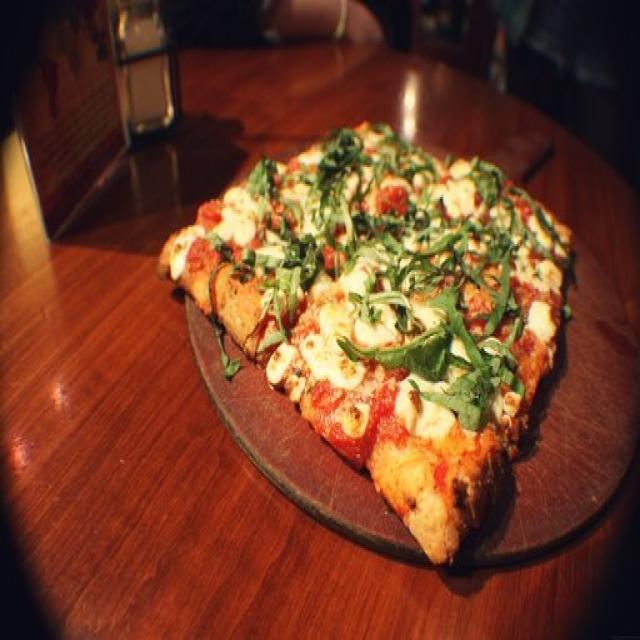Basil: (446, 296, 496, 374), (344, 340, 449, 376), (413, 241, 464, 294), (427, 385, 487, 425), (280, 215, 320, 266), (266, 269, 302, 319), (320, 147, 351, 200), (478, 175, 499, 223), (503, 255, 513, 327)
Pizza: (155, 124, 575, 571)
